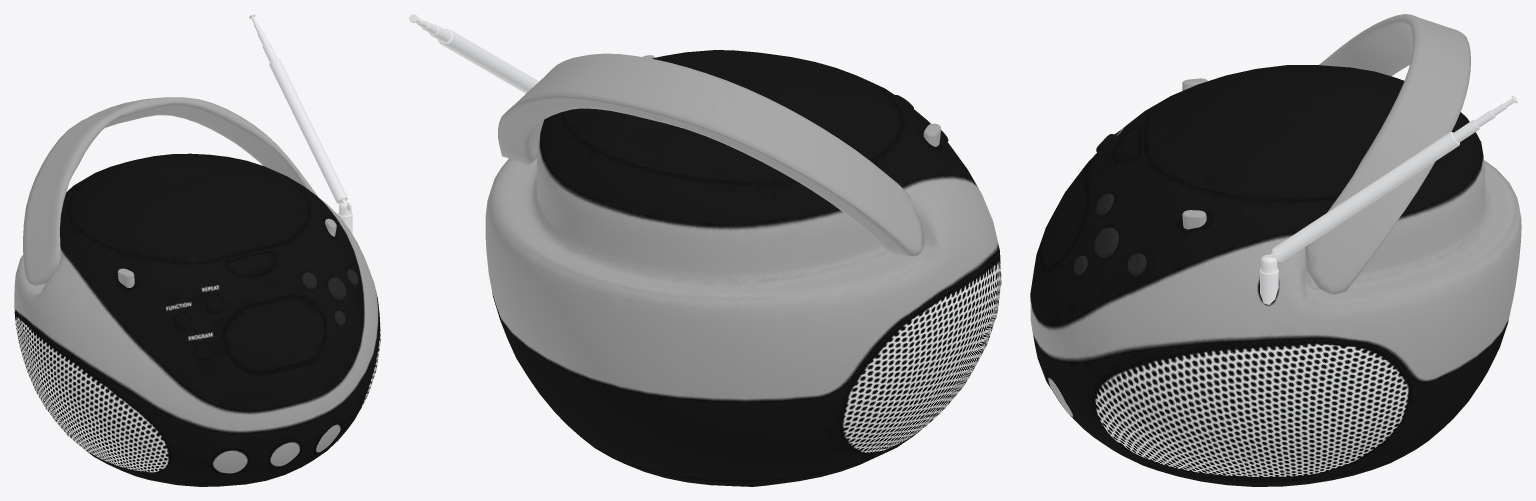
Rendered from boombox.glb.
3 renders of one model, left to right at view 1: azimuth 30°, elevation 25°; view 2: azimuth 150°, elevation 25°; view 3: azimuth 270°, elevation 25°, orthographic. The views are drawn at different scales.
Visible parts, largest first — view 1: BoomBox; view 2: BoomBox; view 3: BoomBox.
Boxes of the visible parts, x1,y1,x2,y2 form: BoomBox: (14,14,380,486); BoomBox: (409,14,1001,486); BoomBox: (1030,14,1521,486).
Size of the model in its own units: 0.0198 by 0.0195 by 0.0202.
Materials: 1 (1 with a texture image).
